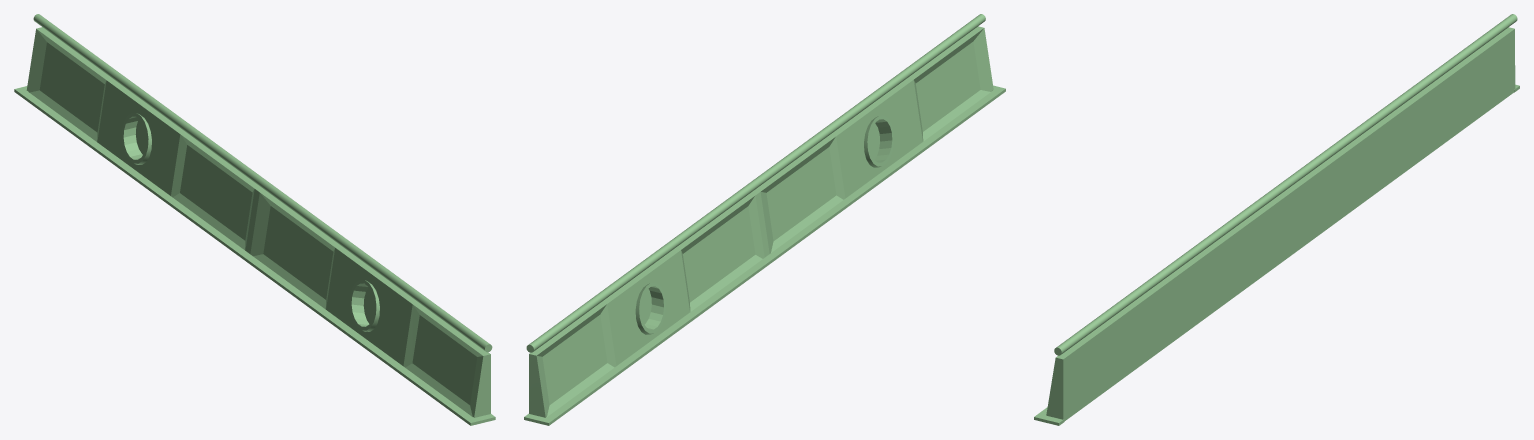
Rendered from ExitVault_Pipes.fbx.
3 renders of one model, left to right at view 1: azimuth 30°, elevation 25°; view 2: azimuth 150°, elevation 25°; view 3: azimuth 330°, elevation 25°, orthographic.
Parts seen in each view (by area): view 1: ExitVault_Pipes; view 2: ExitVault_Pipes; view 3: ExitVault_Pipes.
Boxes of the visible parts, bbox=[...] form: ExitVault_Pipes: bbox=[14, 14, 495, 425]; ExitVault_Pipes: bbox=[524, 14, 1005, 425]; ExitVault_Pipes: bbox=[1034, 14, 1519, 425].
Size of the model in its own units: 7.43 by 236 by 21.22.
